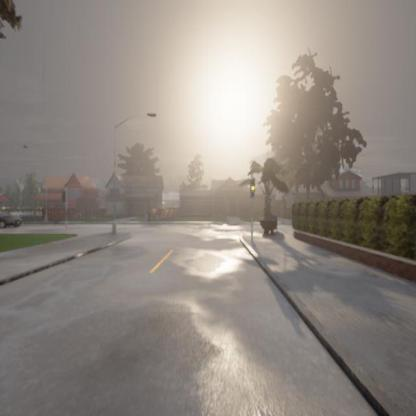traffic_light_orange: (250, 178, 256, 198)
vehicle: (0, 208, 22, 229)
